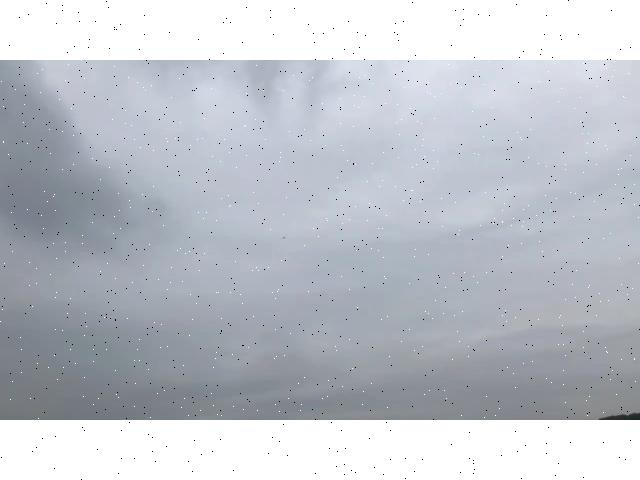Anti-Drone: (275, 232, 293, 242)
